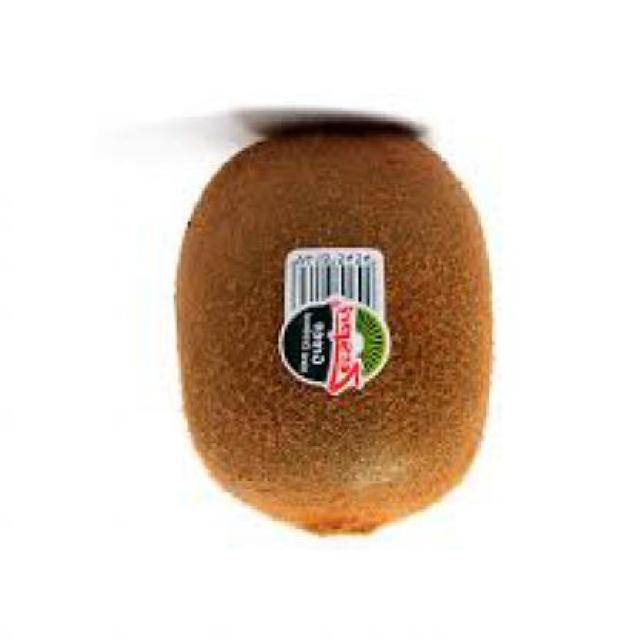BIODEGRADABLE: (176, 128, 481, 538)
